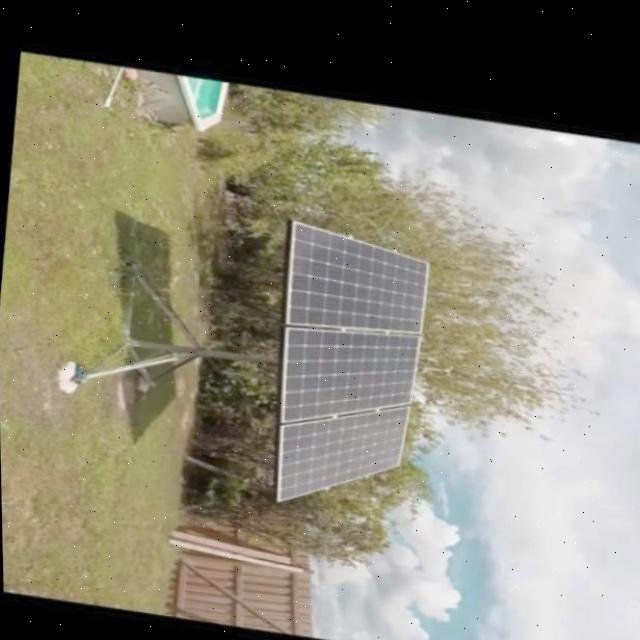Normal Solar Panel: (266, 386, 408, 516), (271, 314, 419, 438), (277, 219, 429, 339)
